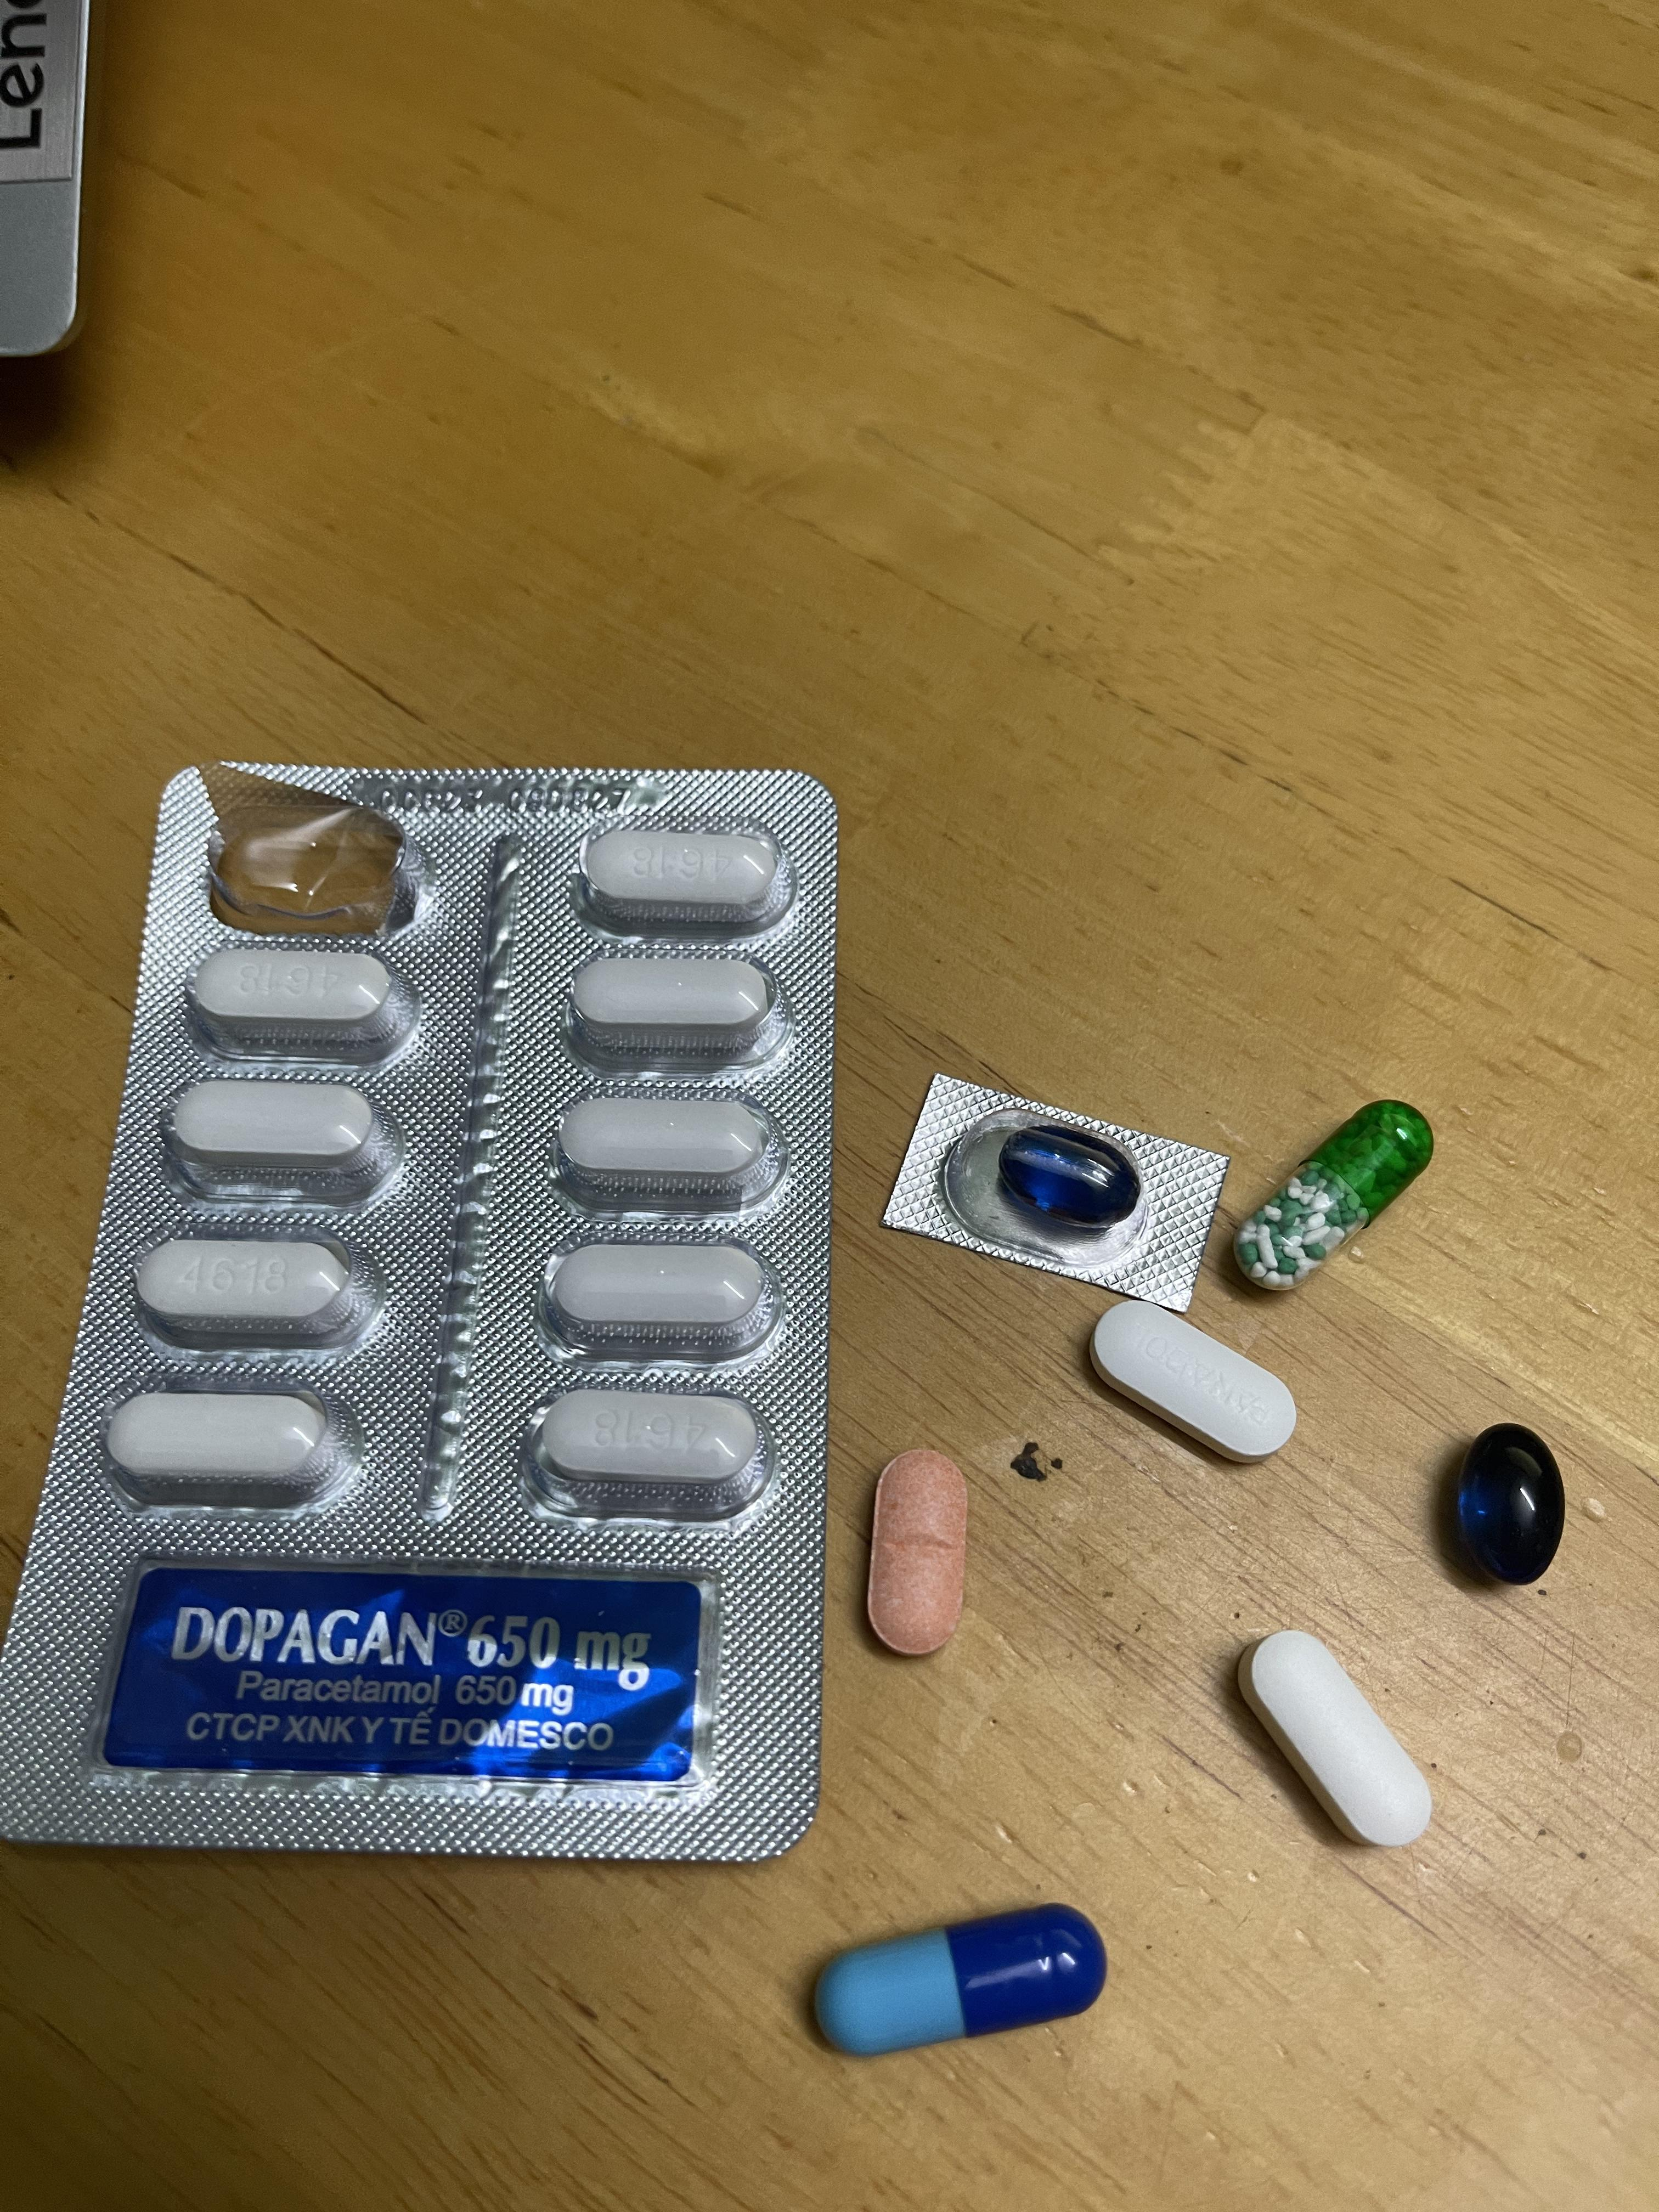Lincomyxin_500mg: (1455, 1423, 1567, 1588), (997, 1129, 1141, 1230)
Loratadine_10mg: (868, 1449, 972, 1655)
Paracetamol_350mg: (1094, 1301, 1291, 1460)
Paracetamol_500mg: (1248, 1630, 1429, 1844), (525, 1388, 765, 1514), (134, 1233, 371, 1346), (166, 1078, 397, 1193), (103, 1388, 342, 1500), (186, 944, 413, 1055), (542, 1240, 767, 1343), (565, 949, 777, 1045), (554, 1094, 775, 1184), (586, 829, 777, 911)
Paracetamol_650mg: (1239, 1099, 1431, 1282)
pill: (819, 1911, 1096, 2054)
